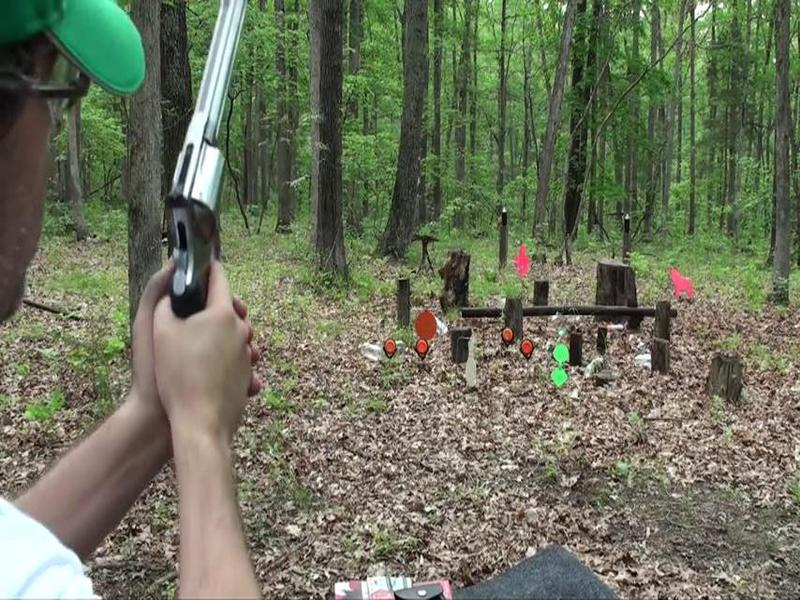Revolver: (131, 1, 294, 350)
